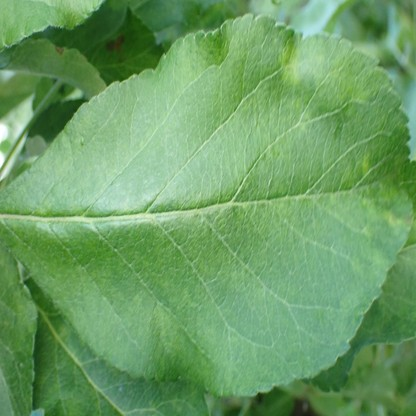scab: (352, 185, 414, 232), (152, 307, 174, 349), (279, 35, 298, 81), (362, 151, 370, 175)
